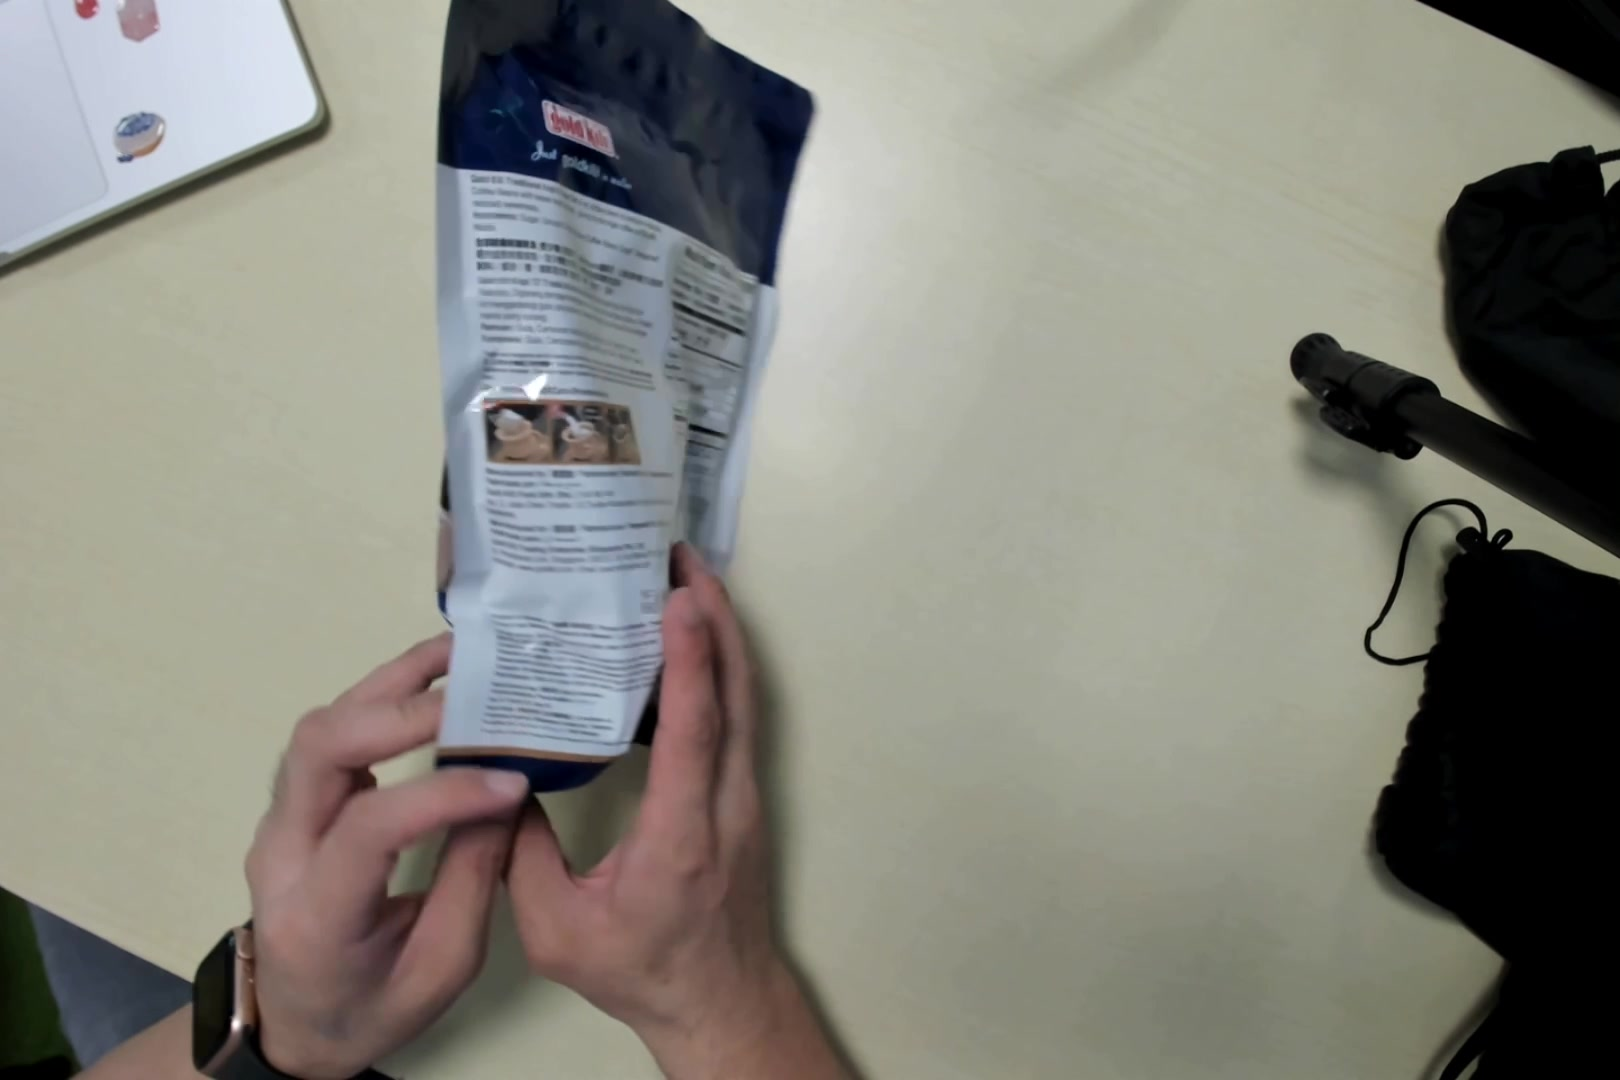Coffee(Powder)_300-399g_Halal_Healthy: (422, 2, 828, 790)
